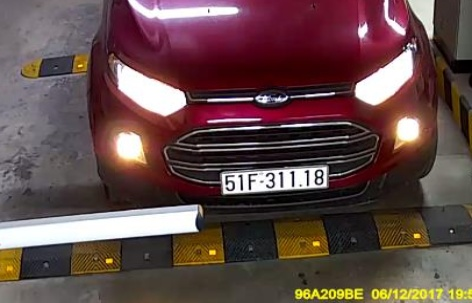plate: (212, 160, 330, 195)
